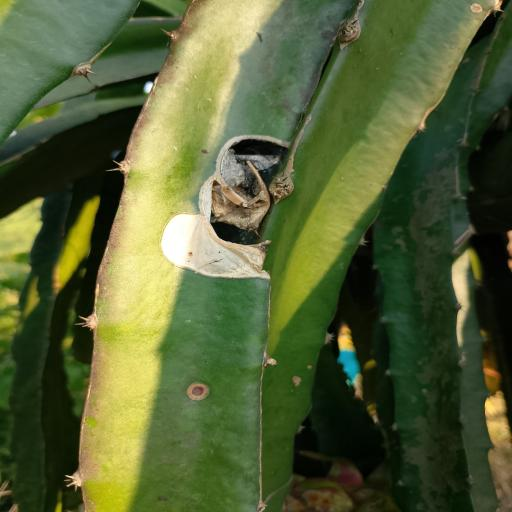stemcanker: (186, 377, 218, 404), (284, 371, 306, 394), (266, 354, 288, 370), (466, 2, 486, 15), (286, 375, 302, 391), (466, 3, 484, 17), (291, 374, 302, 396), (289, 373, 303, 388), (303, 363, 316, 371), (306, 364, 314, 372), (305, 364, 313, 371), (307, 364, 315, 371)
